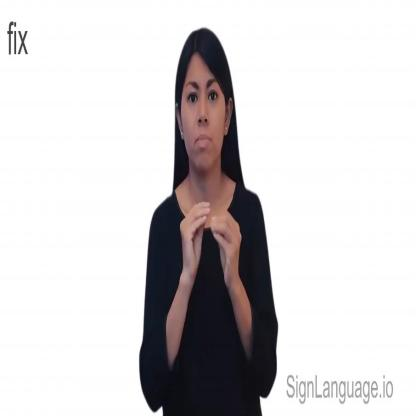Fix: (142, 25, 278, 415)
